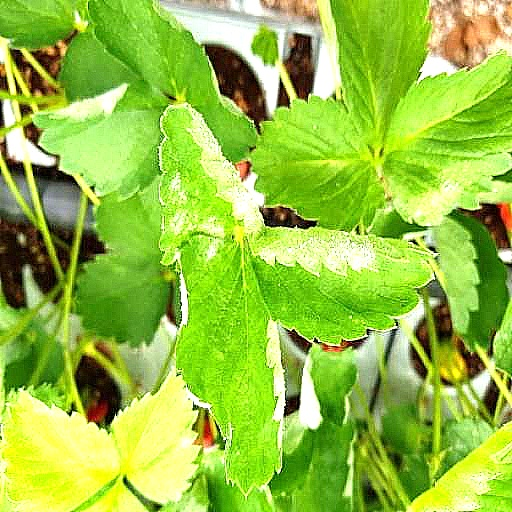Powdery Mildew Leaf: (173, 11, 286, 281), (377, 284, 511, 463), (245, 164, 438, 286), (157, 238, 267, 410), (28, 309, 169, 431), (259, 0, 360, 168), (404, 0, 511, 90)
